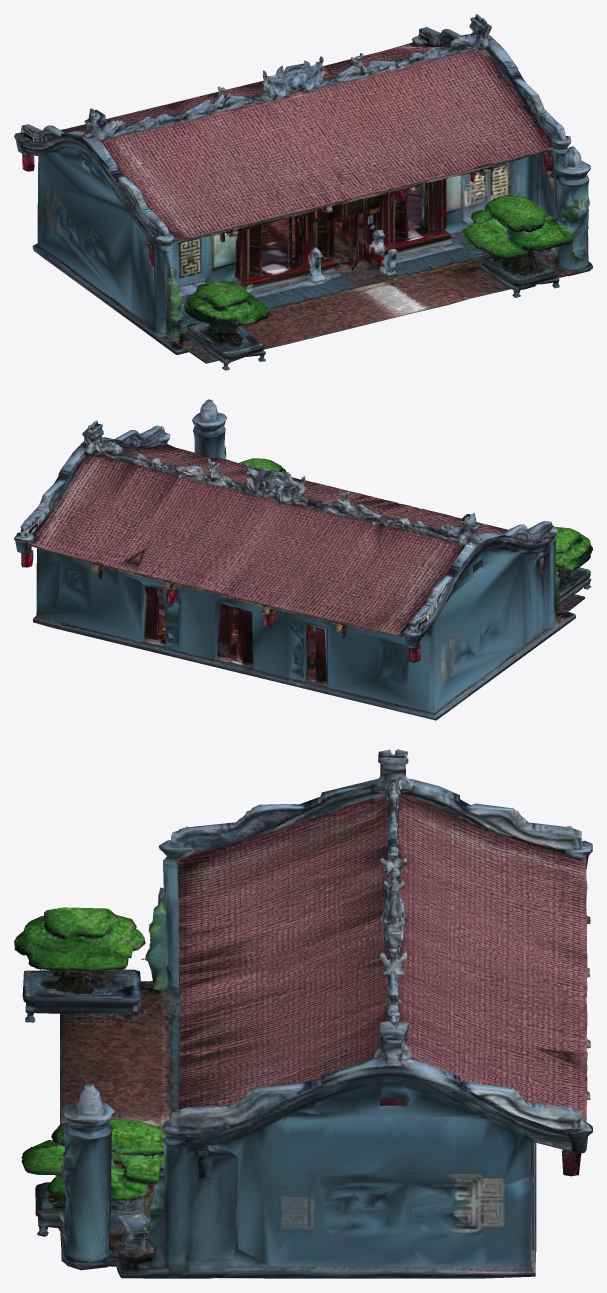
The model's file is dennghe.glb.
3 renders of one model, top to bottom at view 1: azimuth 30°, elevation 25°; view 2: azimuth 150°, elevation 25°; view 3: azimuth 270°, elevation 25°, orthographic. The views are drawn at different scales.
Parts seen in each view (by area): view 1: Mesh_0; view 2: Mesh_0; view 3: Mesh_0.
Part boxes in pixels (box(x1,y1,x2,y2)): Mesh_0: box(14, 14, 592, 370); Mesh_0: box(14, 399, 592, 720); Mesh_0: box(14, 749, 592, 1278).
Size of the model in its own units: 1.91 by 0.7569 by 1.59.
Materials: 1 (1 with a texture image).
